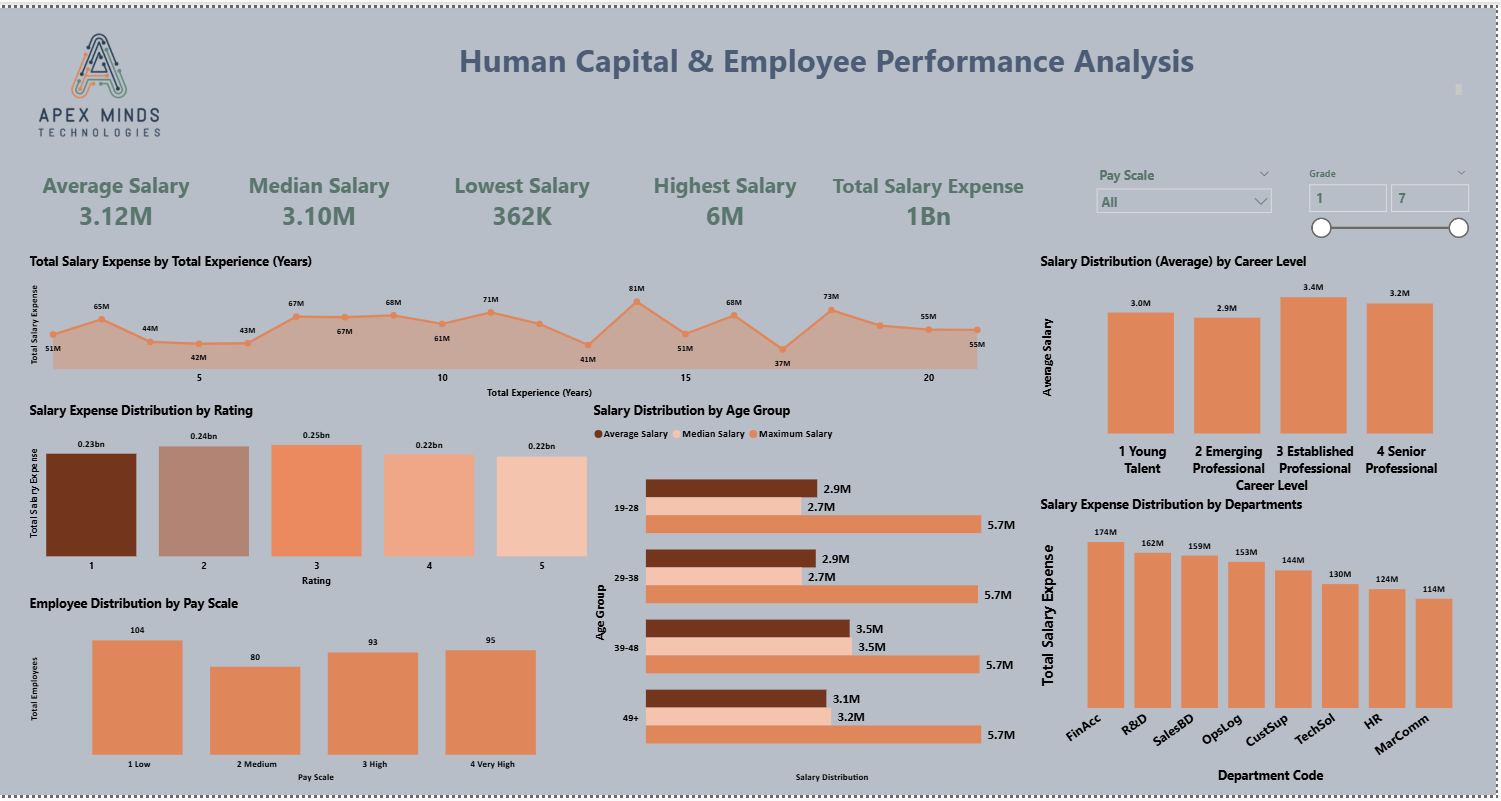

What the dashboard file says about the page in this screenshot:
{"tool":"powerbi","page":{"name":"Salary & Performance Dashboard","canvas":[1900,1000],"ordinal":1},"visuals":[{"type":"cardVisual","fields":{"Data":["Employee Details.Average Salary","Employee Details.Median Salary","Employee Details.Minimum Salary","Employee Details.Maximum Salary","Sum(Employee Details.Salary)"]},"box":[14,196,1304,98],"z":0},{"type":"clusteredColumnChart","title":"Salary Distribution (Average) by Career Level","fields":{"Y":["Employee Details.Average Salary"],"Category":["Employee Details.Career Level Hierarchy","Employee Details.Career Level"]},"box":[1318,310,556,310],"z":1000},{"type":"clusteredBarChart","title":"Salary Distribution by Age Group","fields":{"Category":["Employee Details.Age Group"],"Y":["Employee Details.Average Salary","Employee Details.Median Salary","Employee Details.Maximum Salary"]},"box":[750,500,550,490],"z":2000},{"type":"clusteredColumnChart","title":"Salary Expense Distribution by Rating","fields":{"Category":["Employee Details.Rating"],"Y":["Sum(Employee Details.Salary)"]},"box":[32,500,718,240],"z":3000},{"type":"clusteredColumnChart","title":"Salary Expense Distribution by Departments","fields":{"Category":["Employee Details.Department Code"],"Y":["Sum(Employee Details.Salary)"]},"box":[1318,620,558,370],"z":4000},{"type":"areaChart","fields":{"Category":["Employee Details.Total Experience (Years)"],"Y":["Sum(Employee Details.Salary)"]},"box":[32,310,1286,190],"z":5000},{"type":"slicer","fields":{"Values":["Employee Details.Pay Scale"]},"box":[1384,196,242,98],"z":6000},{"type":"slicer","fields":{"Values":["Employee Details.Grade"]},"box":[1650,196,224,98],"z":7000},{"type":"clusteredColumnChart","title":"Employee Distribution by Pay Scale","fields":{"Category":["Employee Details.Pay Scale Order","Employee Details.Pay Scale"],"Y":["Employee Details.Total Employees"]},"box":[32,746,718,244],"z":8000},{"type":"image","box":[14,0,224,196],"z":9000},{"type":"textbox","title":"Human Capital & Employee Performance Analysis","box":[238,38,1624,78],"z":10000}]}

Visuals, with their boxes in screenshot pixels (x1, y1, x2, y2), scaled from the page's 1900x1000 canvas onto the 1501x801 screenshot:
cardVisual - Employee Details.Average Salary x Employee Details.Median Salary: [x1=11, y1=157, x2=1041, y2=235]
"Salary Distribution (Average) by Career Level" clusteredColumnChart: [x1=1041, y1=248, x2=1480, y2=497]
"Salary Distribution by Age Group" clusteredBarChart: [x1=592, y1=400, x2=1027, y2=793]
"Salary Expense Distribution by Rating" clusteredColumnChart: [x1=25, y1=400, x2=592, y2=593]
"Salary Expense Distribution by Departments" clusteredColumnChart: [x1=1041, y1=497, x2=1482, y2=793]
areaChart - Employee Details.Total Experience (Years) x Sum(Employee Details.Salary): [x1=25, y1=248, x2=1041, y2=400]
slicer - Employee Details.Pay Scale: [x1=1093, y1=157, x2=1285, y2=235]
slicer - Employee Details.Grade: [x1=1304, y1=157, x2=1480, y2=235]
"Employee Distribution by Pay Scale" clusteredColumnChart: [x1=25, y1=598, x2=592, y2=793]
image: [x1=11, y1=0, x2=188, y2=157]
"Human Capital & Employee Performance Analysis" textbox: [x1=188, y1=30, x2=1471, y2=93]
